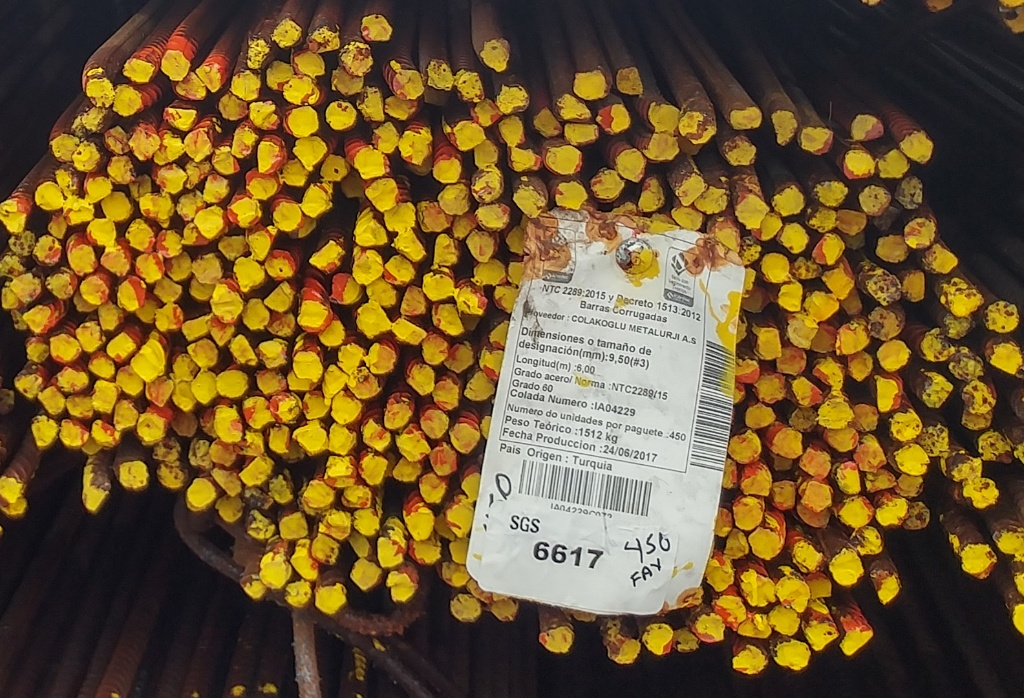dipstick: (941, 279, 985, 316), (513, 176, 549, 219), (985, 336, 1022, 374), (678, 110, 717, 145), (853, 434, 888, 473), (829, 548, 864, 587), (960, 544, 997, 580), (133, 340, 165, 381), (837, 495, 875, 529), (772, 639, 811, 671), (977, 431, 1013, 465), (776, 577, 810, 613), (712, 596, 746, 632), (871, 567, 902, 606), (899, 129, 933, 164), (309, 239, 345, 272), (866, 273, 902, 306), (233, 255, 265, 292), (212, 284, 243, 322), (590, 167, 624, 201), (921, 329, 955, 363), (728, 431, 762, 465), (875, 495, 909, 529), (741, 572, 775, 606), (298, 300, 333, 333), (399, 130, 432, 165), (356, 304, 391, 337), (876, 339, 911, 372), (984, 300, 1019, 333), (961, 381, 996, 414), (893, 444, 930, 475), (339, 42, 373, 75), (707, 218, 740, 252), (735, 194, 768, 228), (951, 348, 984, 382), (748, 527, 781, 561), (347, 368, 382, 400), (352, 249, 384, 284), (546, 145, 583, 175), (961, 478, 998, 508), (292, 540, 319, 581), (385, 570, 418, 603), (449, 422, 482, 455), (836, 322, 869, 355), (890, 411, 923, 444), (472, 168, 504, 202), (331, 392, 363, 425), (868, 308, 901, 340), (813, 356, 845, 389), (920, 377, 953, 409), (418, 202, 452, 233), (573, 69, 607, 100), (596, 103, 630, 134), (293, 424, 328, 454), (446, 502, 476, 537), (616, 148, 646, 183), (788, 314, 818, 349), (152, 166, 189, 194), (771, 108, 798, 146), (11, 274, 43, 306), (243, 396, 275, 428), (433, 304, 465, 336), (772, 184, 804, 216), (260, 555, 291, 588), (303, 481, 334, 514), (350, 559, 381, 592), (723, 135, 756, 166), (903, 218, 936, 249), (821, 268, 854, 299), (455, 69, 485, 103), (227, 198, 261, 228), (393, 232, 427, 262), (361, 419, 391, 453), (397, 431, 431, 461), (554, 181, 588, 211), (647, 102, 681, 132), (799, 482, 833, 512), (476, 203, 511, 232), (392, 318, 427, 347), (732, 645, 767, 674), (284, 77, 320, 105), (818, 401, 854, 429), (325, 456, 356, 488), (675, 174, 706, 206), (812, 234, 844, 265), (771, 427, 803, 458), (741, 466, 772, 498), (732, 498, 763, 530), (792, 541, 824, 572), (366, 178, 396, 211), (318, 510, 351, 540), (842, 149, 875, 179), (806, 292, 839, 322), (246, 170, 280, 199), (303, 185, 332, 219), (454, 286, 488, 315), (921, 422, 950, 456), (645, 133, 680, 161), (941, 310, 976, 338), (215, 405, 242, 441), (539, 627, 575, 654), (52, 367, 89, 393), (438, 183, 469, 214), (769, 606, 800, 637), (693, 613, 724, 644), (129, 129, 159, 161), (271, 393, 301, 425), (265, 249, 295, 281), (454, 120, 486, 150), (859, 186, 891, 216), (798, 450, 830, 480), (705, 559, 735, 591), (643, 623, 673, 655), (431, 233, 460, 266), (312, 534, 341, 567), (377, 535, 406, 568), (876, 234, 909, 263), (44, 272, 78, 300), (800, 127, 834, 155), (607, 636, 641, 664), (876, 377, 903, 412), (839, 630, 874, 657), (288, 107, 318, 138), (242, 457, 273, 487), (187, 339, 218, 369), (191, 254, 222, 284), (355, 149, 385, 180), (385, 201, 416, 231), (878, 149, 909, 179), (927, 244, 958, 274), (145, 375, 174, 407), (265, 281, 294, 313), (360, 454, 389, 486), (405, 509, 434, 541), (851, 527, 883, 556), (315, 585, 347, 614), (481, 39, 509, 72), (354, 219, 387, 247), (497, 85, 530, 113), (695, 186, 728, 214), (895, 177, 923, 210), (790, 378, 823, 406), (813, 181, 848, 207), (803, 625, 838, 651), (155, 135, 185, 165), (393, 69, 424, 98), (50, 334, 81, 363), (272, 202, 303, 231), (423, 272, 454, 301), (118, 278, 146, 310), (755, 327, 783, 359), (845, 349, 873, 381), (850, 113, 883, 140), (472, 261, 506, 287), (948, 455, 982, 481), (1, 199, 26, 234), (556, 95, 591, 120), (326, 102, 356, 131), (118, 460, 148, 489), (247, 228, 276, 258), (257, 339, 287, 368), (301, 391, 331, 420), (367, 344, 396, 374), (384, 257, 414, 286), (429, 446, 458, 476), (420, 409, 449, 439), (776, 347, 806, 376), (756, 375, 786, 404), (102, 191, 133, 219), (24, 306, 55, 334), (216, 370, 247, 398), (467, 231, 495, 262), (329, 424, 357, 455), (419, 474, 447, 505), (449, 594, 480, 622), (464, 372, 495, 400), (781, 222, 809, 253), (745, 402, 776, 430), (31, 415, 58, 447), (242, 298, 269, 330), (408, 364, 435, 396), (751, 213, 783, 240), (322, 365, 348, 398), (835, 461, 861, 494), (640, 178, 665, 212), (272, 19, 301, 48), (35, 182, 64, 211), (101, 247, 130, 276), (331, 274, 360, 303), (68, 244, 96, 274), (107, 333, 137, 361), (60, 419, 90, 447), (137, 414, 165, 444), (850, 403, 878, 433), (114, 86, 141, 117), (38, 386, 65, 417), (128, 221, 155, 252), (231, 335, 258, 366), (266, 311, 297, 338), (447, 342, 474, 373), (471, 99, 502, 126), (122, 58, 154, 84), (361, 15, 393, 41), (427, 59, 453, 91), (295, 139, 327, 165), (822, 429, 858, 452), (308, 27, 341, 52), (258, 140, 283, 173), (192, 372, 217, 405), (797, 505, 830, 530), (360, 88, 384, 122), (86, 77, 114, 106), (161, 51, 189, 80), (91, 419, 120, 447), (157, 461, 186, 489), (188, 479, 217, 507), (136, 254, 164, 283), (196, 208, 224, 237), (294, 352, 323, 380), (534, 107, 562, 136), (249, 102, 279, 129), (34, 235, 61, 265), (117, 366, 144, 396), (212, 469, 242, 496), (333, 69, 364, 95), (256, 368, 287, 394), (141, 194, 173, 219), (293, 52, 326, 76), (509, 147, 542, 171), (729, 106, 762, 130), (108, 156, 136, 184), (77, 323, 105, 351), (231, 73, 260, 100), (172, 410, 199, 439), (337, 345, 366, 372), (762, 253, 789, 282), (93, 380, 116, 414), (176, 73, 206, 99), (186, 131, 212, 161), (207, 316, 233, 346), (433, 381, 459, 411), (499, 116, 525, 146), (385, 95, 416, 120), (173, 380, 198, 411), (725, 529, 749, 561), (220, 93, 248, 120), (266, 62, 294, 89), (88, 220, 116, 247), (80, 278, 108, 305), (247, 512, 275, 539), (165, 252, 192, 280), (178, 192, 205, 220), (279, 512, 307, 539), (82, 485, 108, 514), (367, 279, 396, 305), (616, 66, 642, 95), (232, 127, 257, 157), (64, 198, 94, 223), (373, 123, 398, 153), (670, 207, 702, 230), (739, 615, 771, 638), (353, 509, 380, 536), (384, 402, 411, 429), (51, 135, 79, 161), (55, 168, 81, 196), (89, 353, 115, 381), (790, 407, 818, 433), (447, 539, 476, 564), (474, 140, 499, 169), (837, 210, 866, 235), (82, 108, 112, 132), (114, 399, 138, 429), (210, 441, 240, 465), (401, 286, 425, 316), (772, 480, 796, 510), (895, 474, 925, 498), (564, 124, 598, 145), (247, 36, 269, 68), (213, 147, 240, 173), (218, 495, 244, 522), (394, 458, 421, 484), (733, 358, 760, 384), (14, 374, 42, 399), (319, 320, 344, 348), (433, 157, 461, 182), (413, 539, 441, 564), (906, 502, 931, 530), (342, 485, 371, 509), (807, 208, 836, 232), (166, 108, 196, 131), (152, 440, 182, 463), (902, 271, 924, 302), (156, 305, 182, 331), (154, 277, 181, 302), (423, 338, 448, 365), (286, 582, 311, 609), (74, 143, 98, 171), (66, 394, 94, 418), (204, 175, 228, 203), (282, 160, 306, 188), (790, 258, 822, 279), (778, 284, 802, 312), (107, 126, 130, 155), (137, 296, 160, 325), (189, 440, 212, 469), (271, 475, 293, 505), (864, 472, 897, 492), (238, 431, 264, 456), (322, 156, 348, 181), (442, 564, 470, 587), (185, 162, 210, 187), (183, 316, 210, 339), (85, 178, 113, 200), (268, 425, 290, 453), (100, 303, 121, 332), (173, 356, 198, 380), (157, 231, 181, 256), (130, 174, 152, 201), (220, 236, 247, 258), (201, 66, 222, 94), (721, 459, 739, 491), (9, 232, 34, 255), (492, 599, 517, 622), (1, 477, 22, 504), (741, 237, 761, 265), (452, 215, 476, 238), (241, 576, 265, 599), (674, 630, 698, 653), (287, 372, 316, 391), (714, 507, 733, 536), (1, 255, 26, 277), (183, 224, 208, 246), (200, 407, 217, 438), (961, 414, 992, 430), (809, 578, 832, 599), (48, 211, 66, 236), (189, 281, 214, 299), (1, 283, 18, 309), (27, 344, 49, 364)
